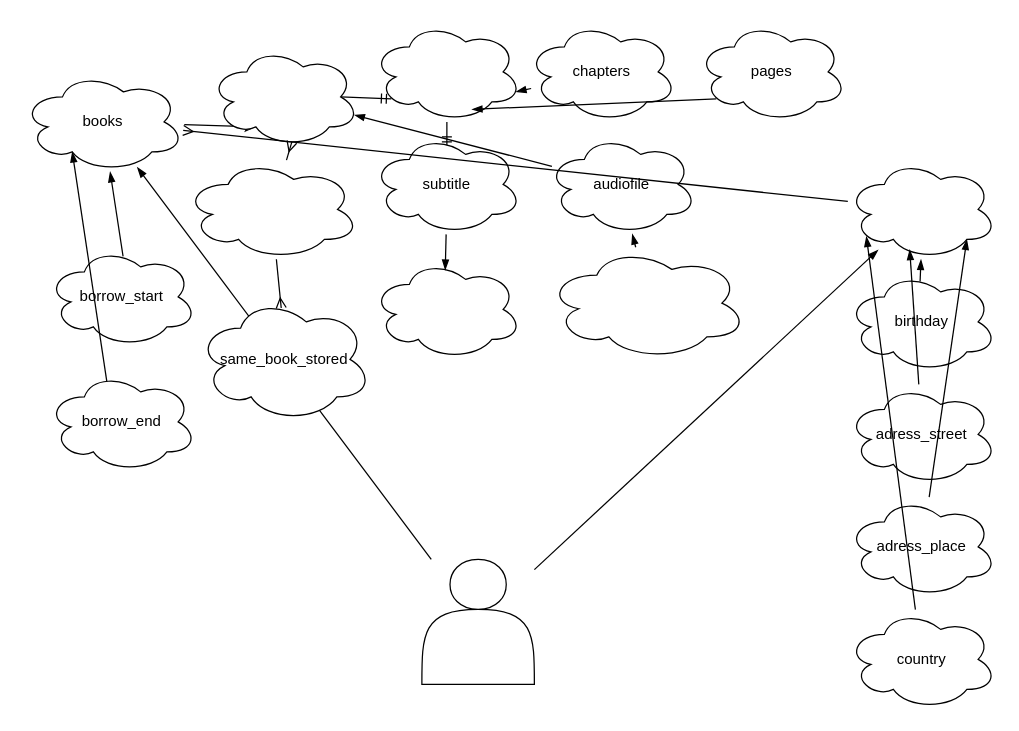
Some shapes in this 1019 by 731 pixel diagram are drawn without their labels. The shapes that lost their labels are listed below. From the top down, each one's centre as x and y in pixels, then its label:
At (446,71): "titel".
At (283,96): "author".
At (271,208): "available_language".
At (921,208): "name_student".
At (446,308): "discription".
At (646,302): "audiofile_language".
